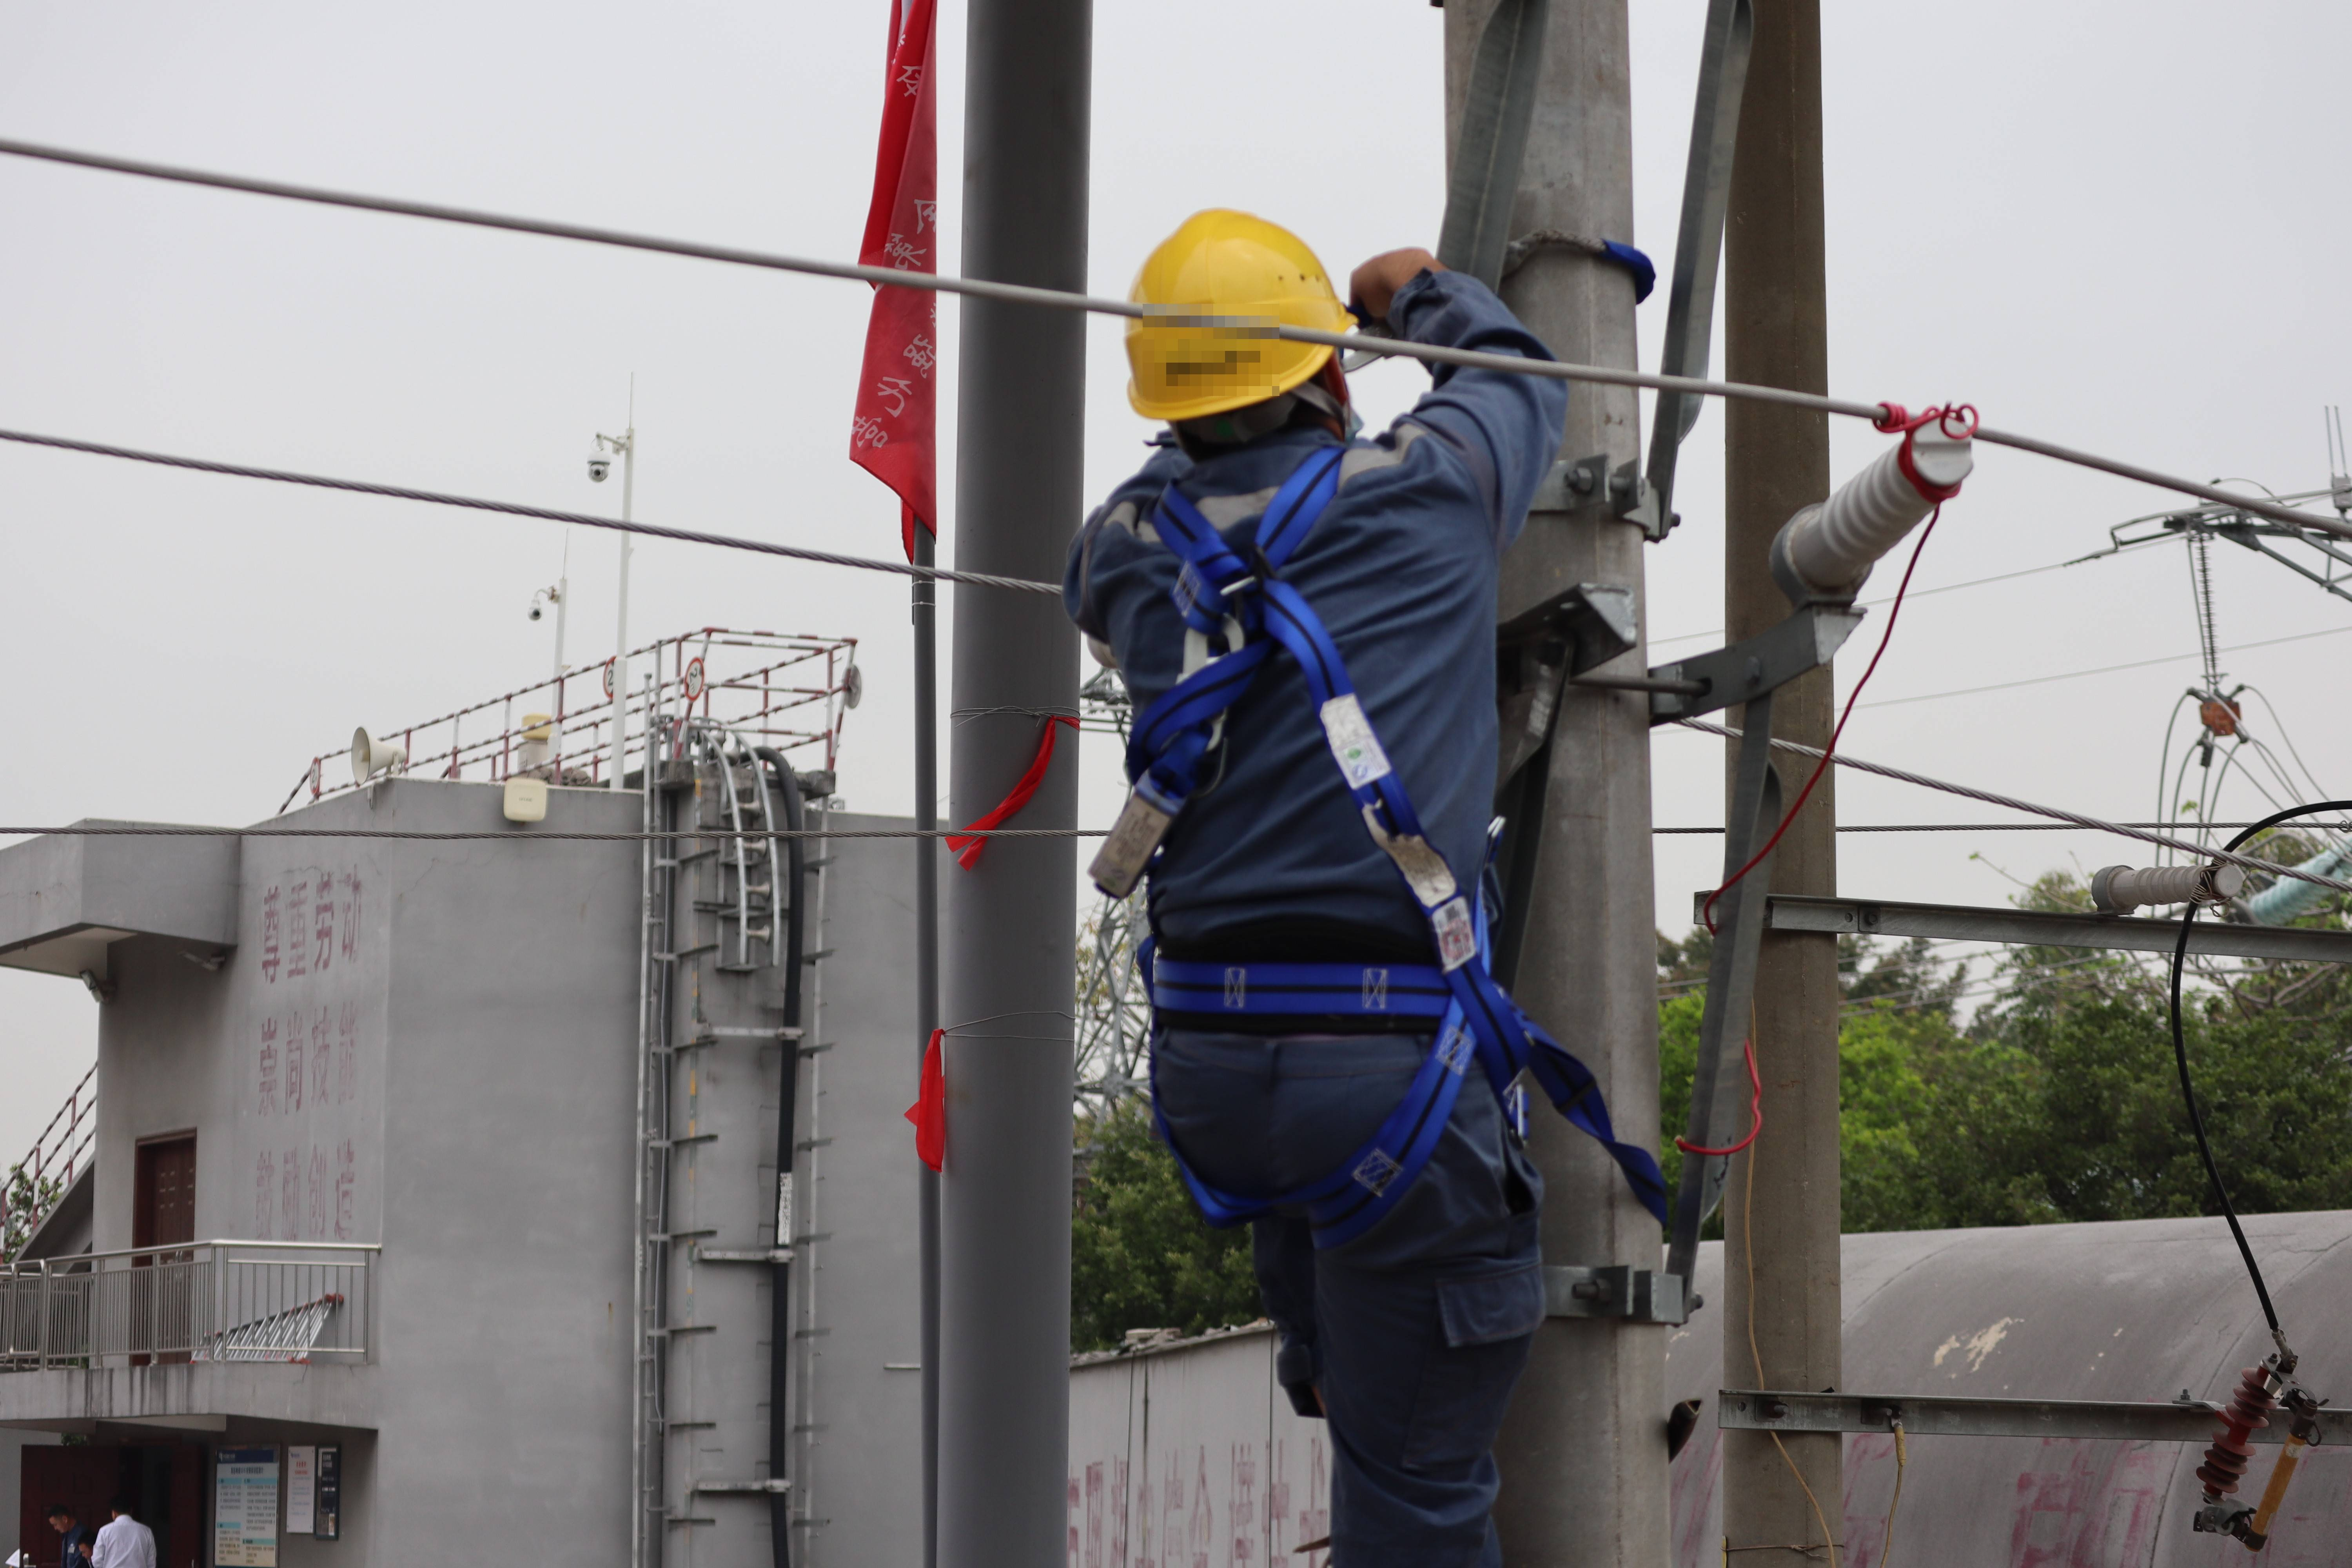downsuit: (1150, 1025, 1551, 1565)
upsuit: (1096, 411, 1547, 987)
